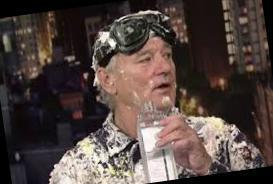Drunk: (114, 42, 178, 110)
